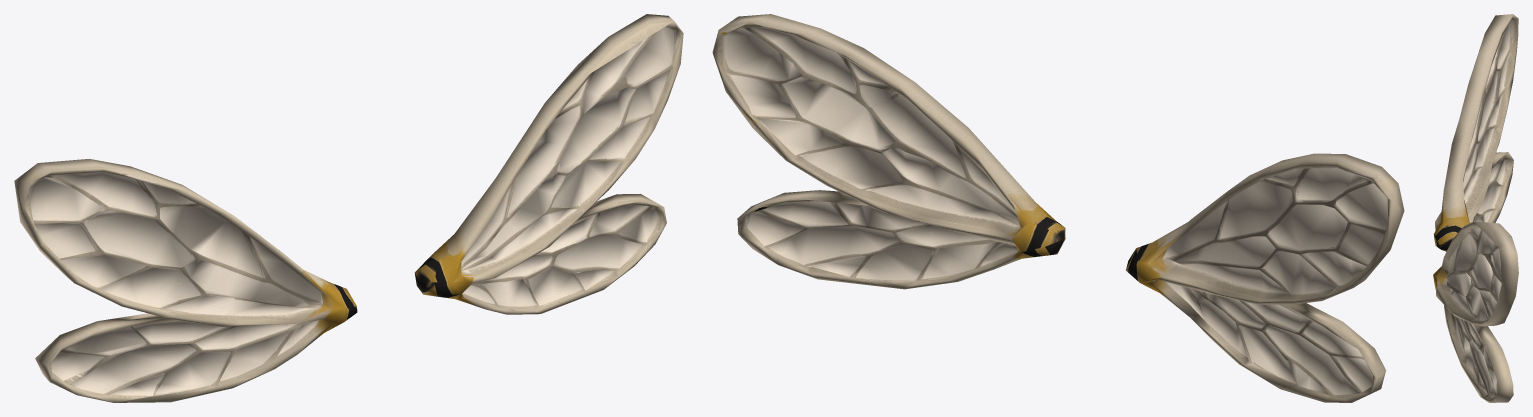
The model's file is wings.fbx.
3 renders of one model, left to right at view 1: azimuth 30°, elevation 25°; view 2: azimuth 150°, elevation 25°; view 3: azimuth 270°, elevation 25°, orthographic. The views are drawn at different scales.
Parts seen in each view (by area): view 1: wings; view 2: wings; view 3: wings.
Boxes of the visible parts, left/top/right/bottom form: wings: left=14, top=14, right=683, bottom=402; wings: left=712, top=14, right=1404, bottom=402; wings: left=1433, top=14, right=1518, bottom=402.
Size of the model in its own units: 101 by 36.26 by 15.12.
1 material, 1 textured.
